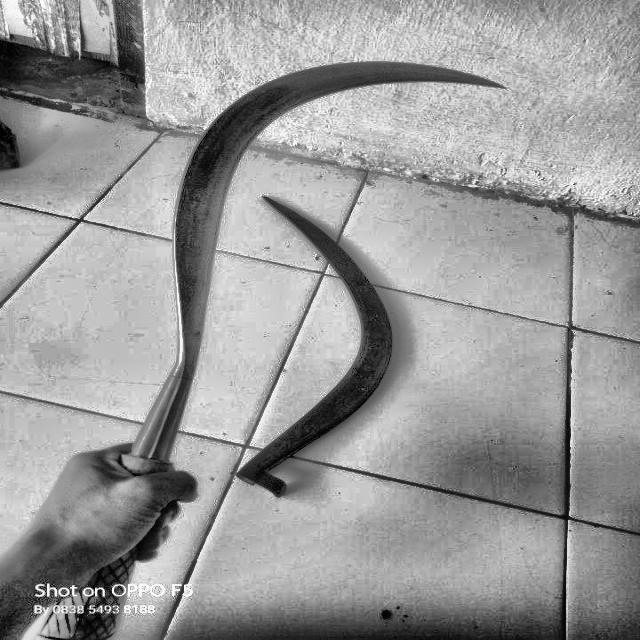celurit: (78, 42, 518, 574)
